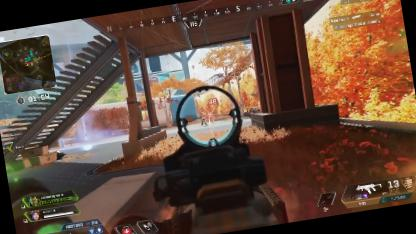Target: (198, 112, 208, 126)
